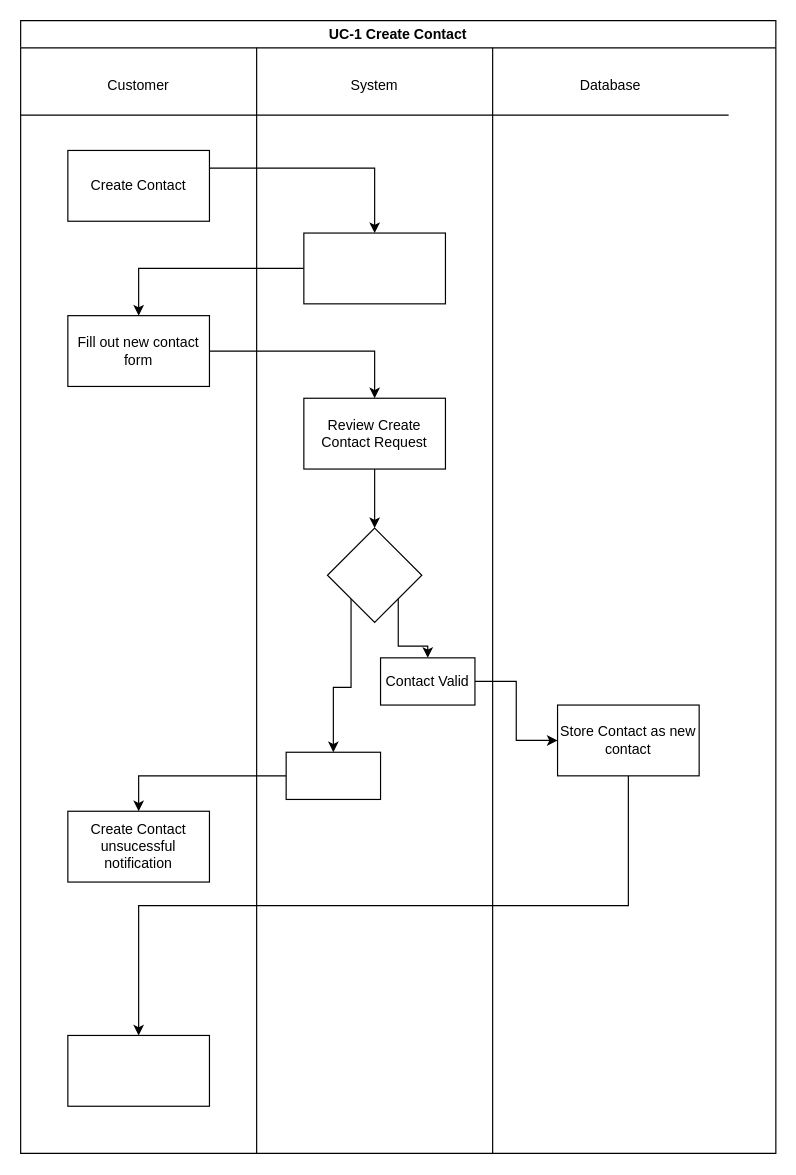
Image size: 796x1175. Some labels were removed from this diagram. The box of each missing label's shape, as (x1, y1, x2, y2) in pixels:
Contact Created Succesfully Notification: (67, 1034, 209, 1106)
Contact Invalid: (285, 751, 381, 799)
Display New contact Form: (303, 232, 445, 304)
Valid Contact?: (326, 527, 422, 622)
